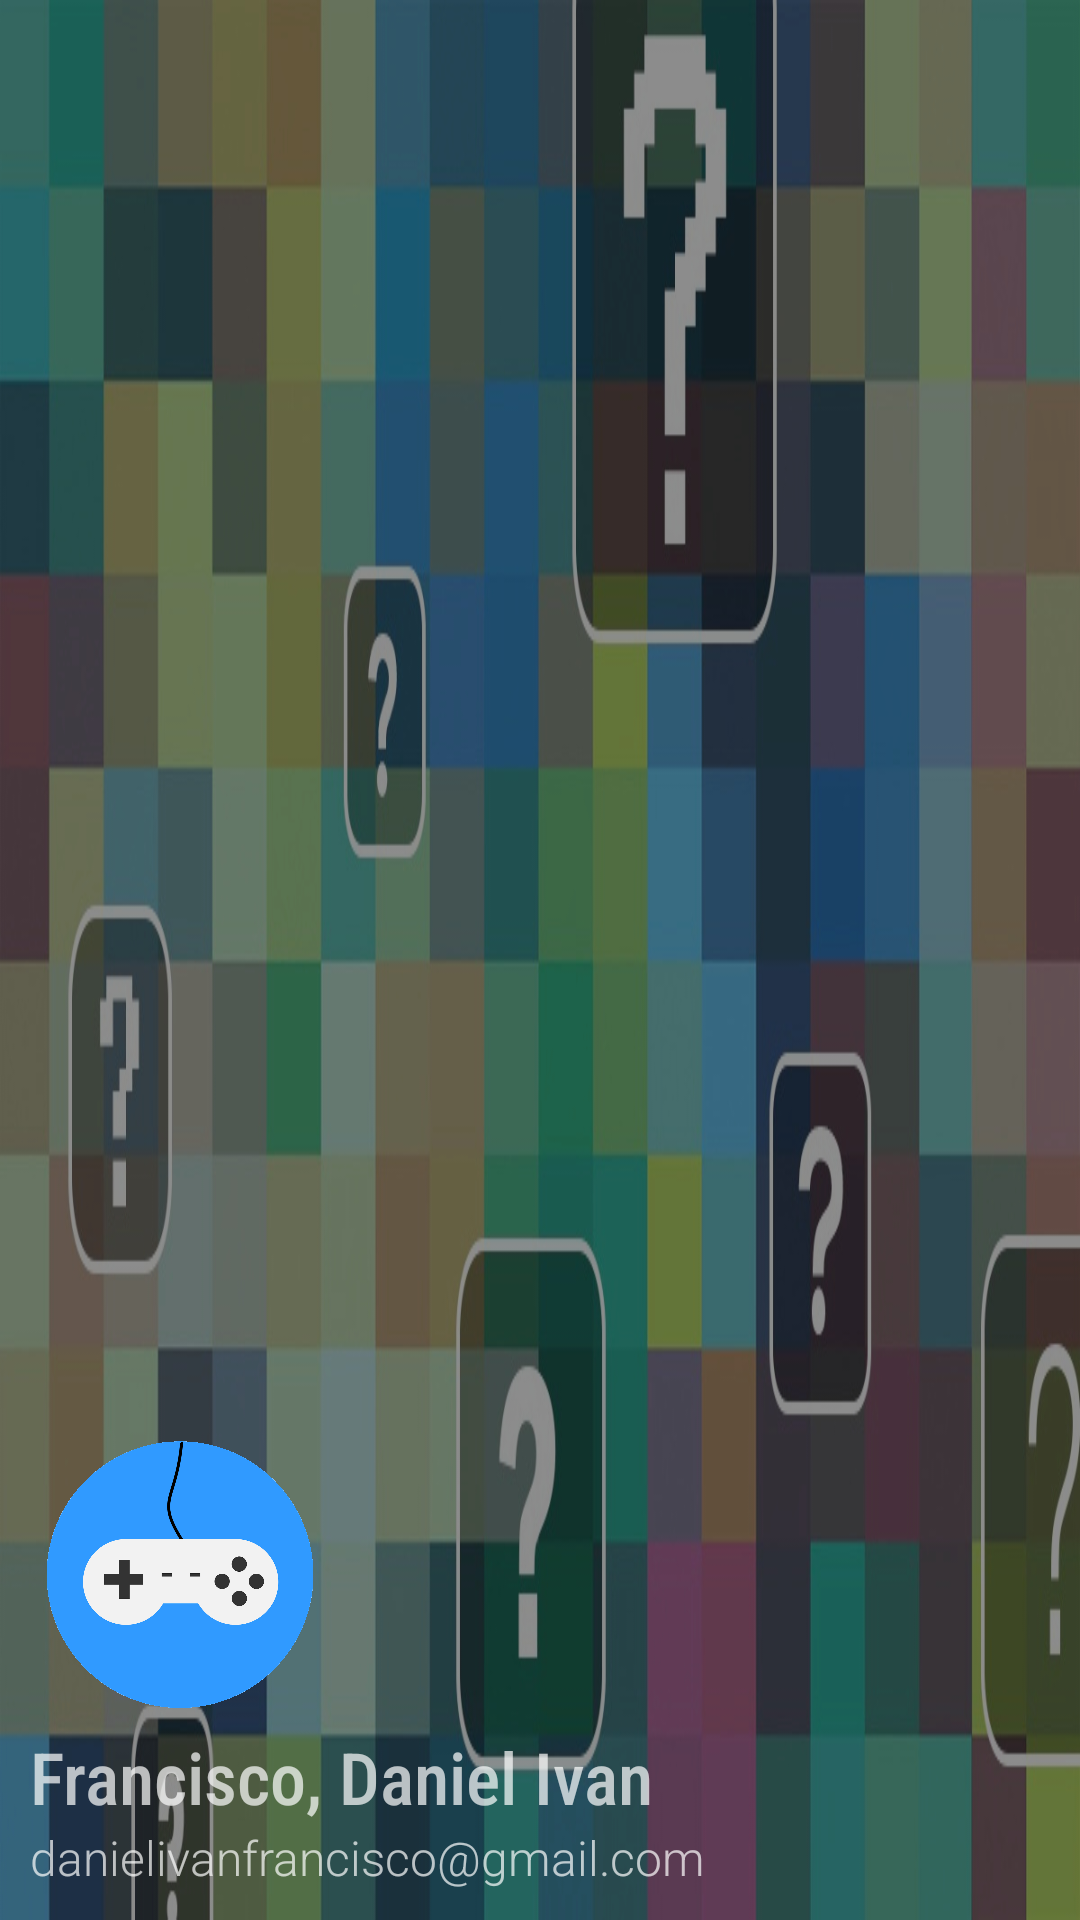

Icons on this 1080 x 1920 Android screen, each with its box as box(x1, y1, x2, y2):
game profile: box(47, 1428, 330, 1728)
